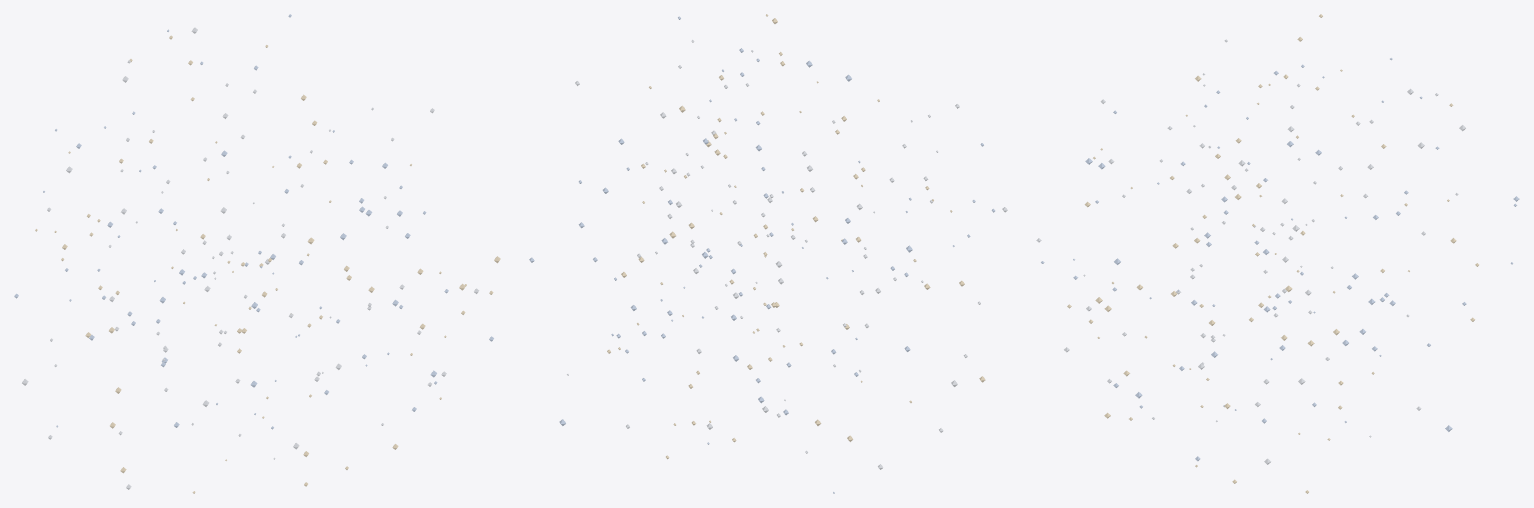
3 renders of one model, left to right at view 1: azimuth 30°, elevation 25°; view 2: azimuth 150°, elevation 25°; view 3: azimuth 270°, elevation 25°, orthographic. The views are drawn at different scales.
Bounding box in the file's own units: 4.44 × 4.75 × 4.85.
